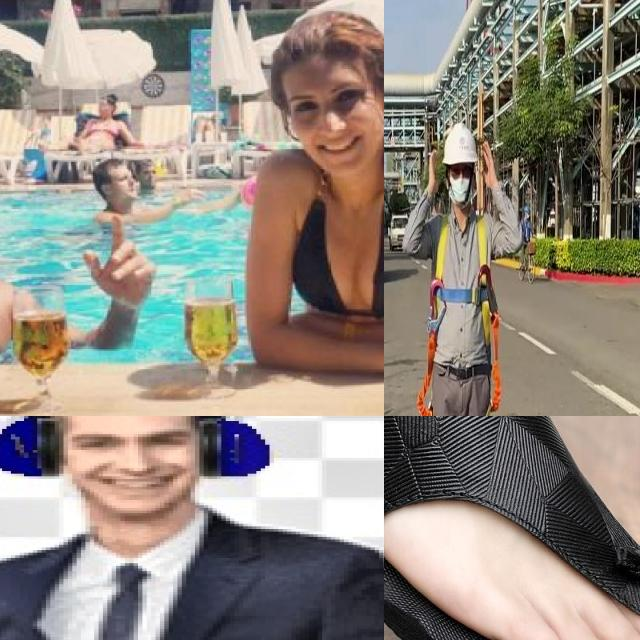Ear-protection: (0, 416, 296, 493)
Harness: (417, 216, 503, 416)
No_Ear-Protection: (376, 79, 384, 115)
No_Glasses: (277, 73, 374, 124)
Sandals: (384, 416, 640, 640)
face_nomask: (291, 89, 371, 160), (108, 169, 140, 201)
hand_noglove: (75, 212, 163, 306)
head_nohelmet: (274, 10, 372, 69), (97, 152, 129, 173)
person: (224, 2, 384, 379), (0, 82, 66, 393)
